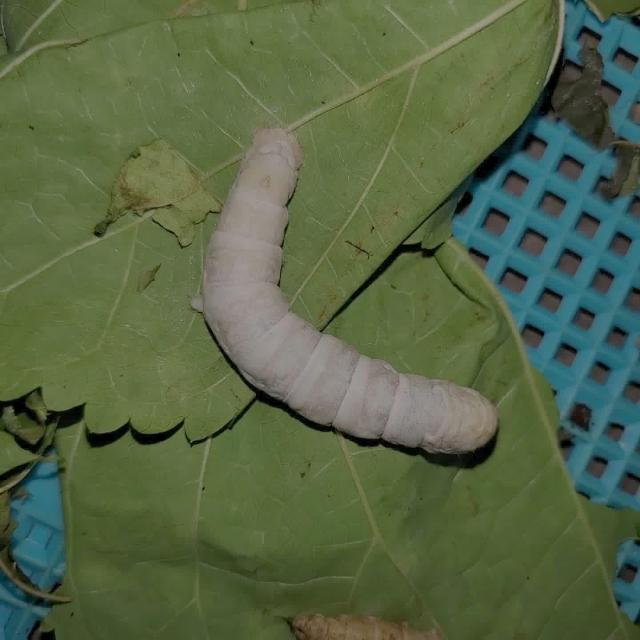Grasserie: (184, 109, 506, 480)
